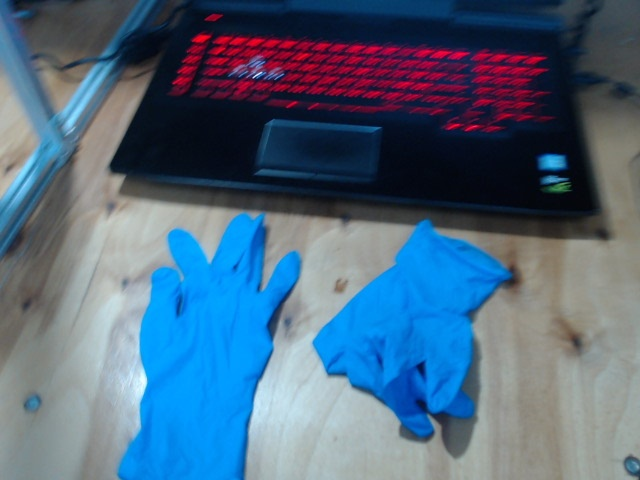medical_glove: (122, 211, 301, 480), (312, 219, 512, 434)
